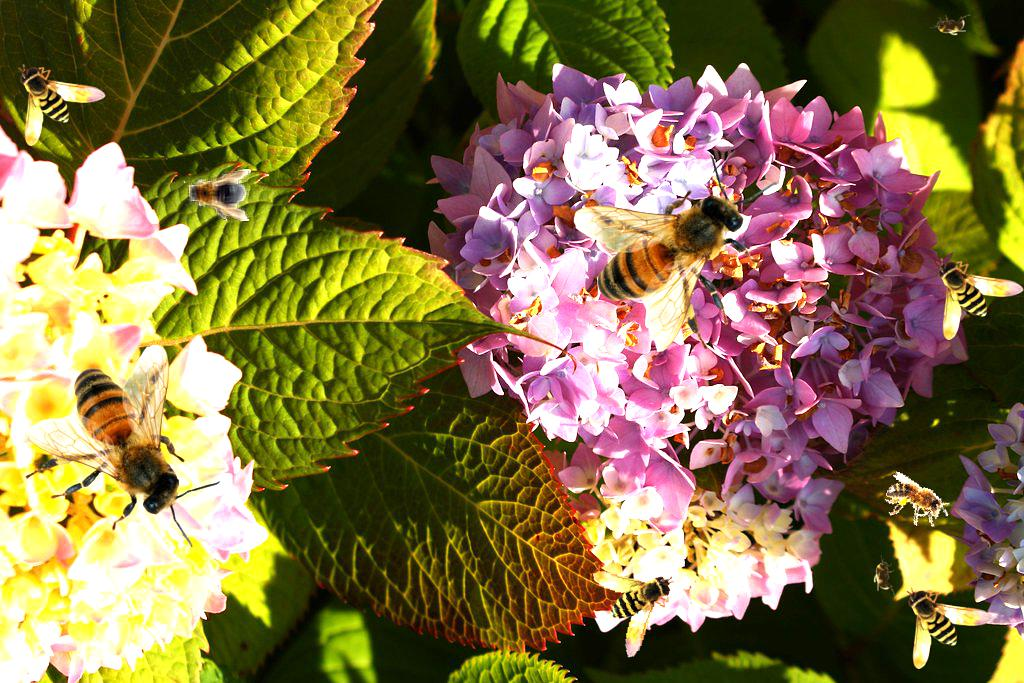Bee: (23, 344, 222, 548), (573, 153, 777, 352), (579, 562, 677, 664), (18, 64, 106, 146), (936, 258, 1024, 340), (906, 587, 994, 669), (879, 470, 957, 535), (183, 169, 251, 221), (930, 14, 970, 36), (873, 555, 895, 595)
